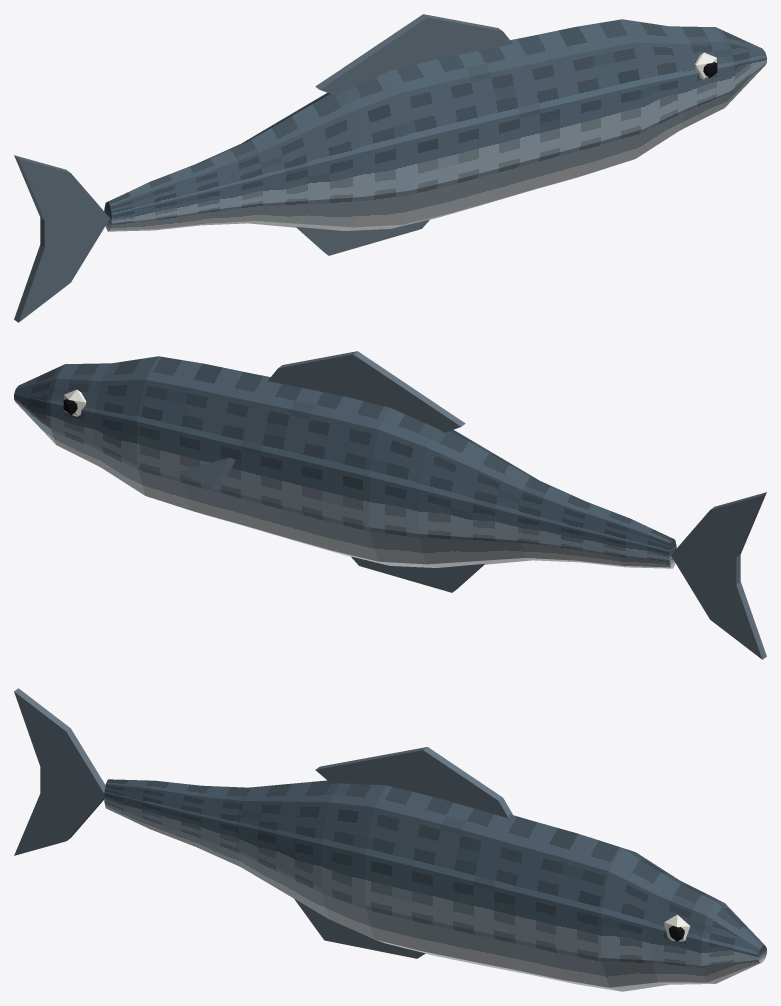
File: diamond_scale_mullet.glb
3 views of the same model, one above another, from view 1: azimuth 30°, elevation 25°; view 2: azimuth 150°, elevation 25°; view 3: azimuth 330°, elevation 25° (orthographic).
Parts seen in each view (by area): view 1: fish_diamond_scale_mullet; view 2: fish_diamond_scale_mullet; view 3: fish_diamond_scale_mullet.
Part boxes in pixels (bbox=[...]): fish_diamond_scale_mullet: bbox=[14, 14, 766, 322]; fish_diamond_scale_mullet: bbox=[14, 351, 766, 659]; fish_diamond_scale_mullet: bbox=[14, 688, 766, 991].
Size of the model in its own units: 1.14 by 0.3129 by 0.1501.
4 materials, 1 textured.
